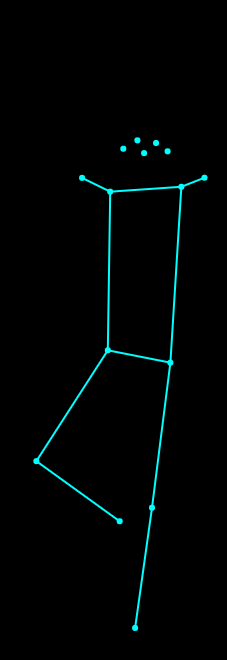tree: (28, 130, 211, 633)
